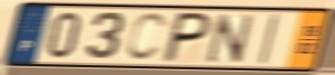0: (45, 10, 85, 60)
3: (84, 11, 129, 62)
C: (123, 11, 170, 64)
I: (256, 12, 282, 67)
N: (204, 11, 257, 65)
P: (158, 10, 215, 65)
